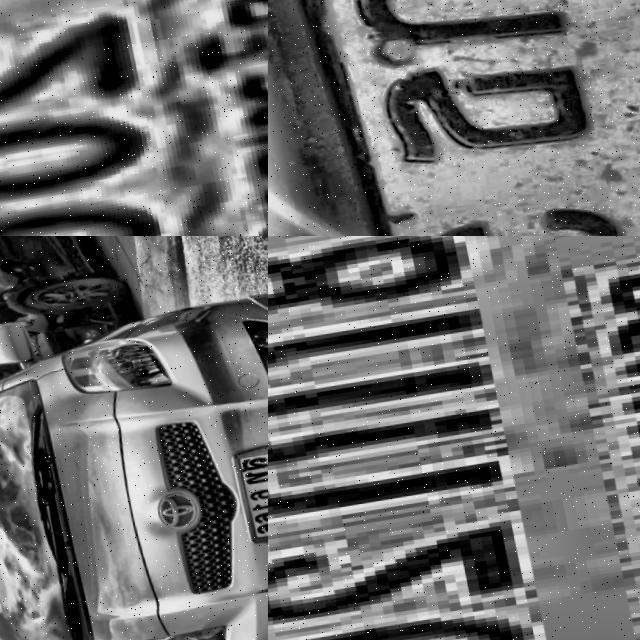license-plate: (268, 236, 640, 640), (268, 0, 640, 236), (0, 0, 268, 236), (221, 444, 268, 553)
